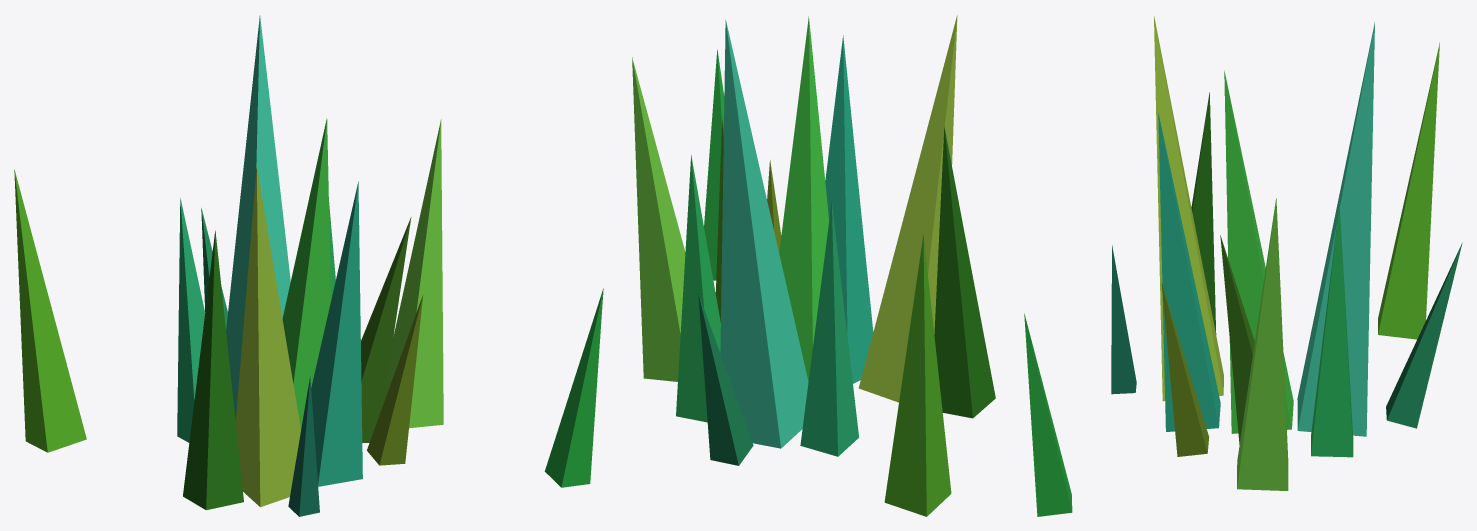
Rendered from GrassA.fbx.
3 renders of one model, left to right at view 1: azimuth 30°, elevation 25°; view 2: azimuth 150°, elevation 25°; view 3: azimuth 270°, elevation 25°, orthographic. The views are drawn at different scales.
Parts seen in each view (by area): view 1: GrassA; view 2: GrassA; view 3: GrassA.
Boxes of the visible parts, box(x1,y1,x2,y2) form: GrassA: box(14, 15, 603, 516); GrassA: box(632, 15, 995, 516); GrassA: box(1024, 16, 1462, 516).
Bounding box in the file's own units: 136 × 131 × 126.
